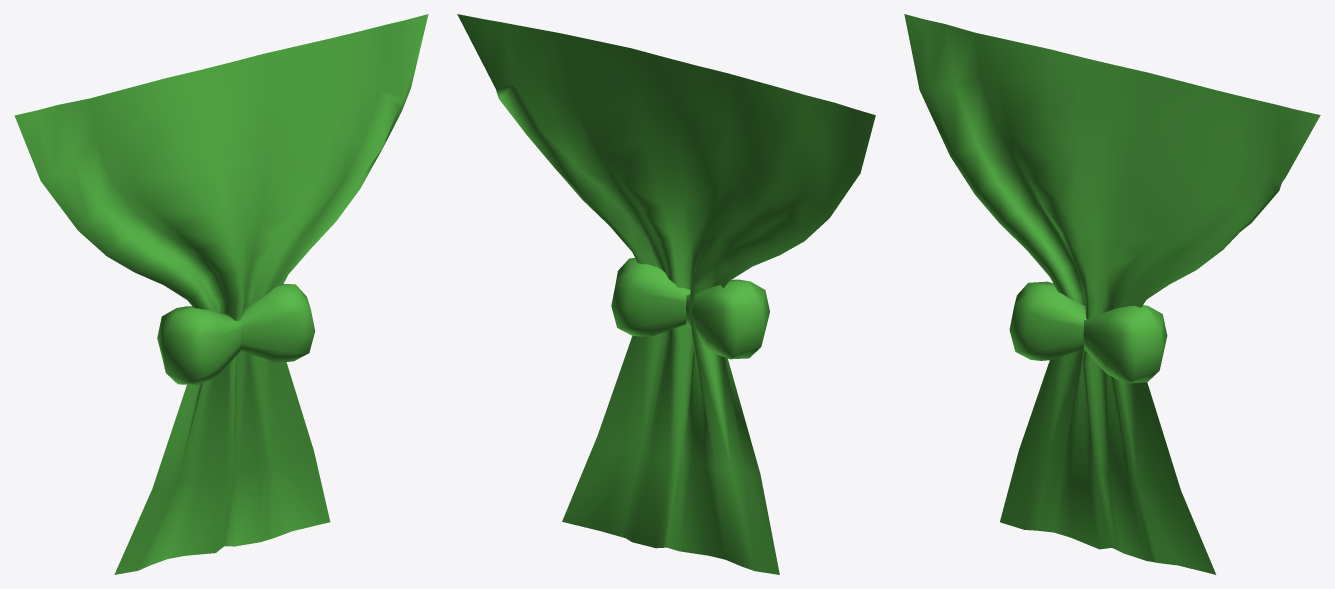
Rendered from mesh_Cortina2.fbx.
3 renders of one model, left to right at view 1: azimuth 30°, elevation 25°; view 2: azimuth 150°, elevation 25°; view 3: azimuth 330°, elevation 25°, orthographic.
Parts seen in each view (by area): view 1: mesh_Cortina2; view 2: mesh_Cortina2; view 3: mesh_Cortina2.
Boxes of the visible parts, x1,y1,x2,y2 form: mesh_Cortina2: (14,14,428,574); mesh_Cortina2: (457,14,875,574); mesh_Cortina2: (904,14,1320,574).
Size of the model in its own units: 2093 by 2357 by 315.
